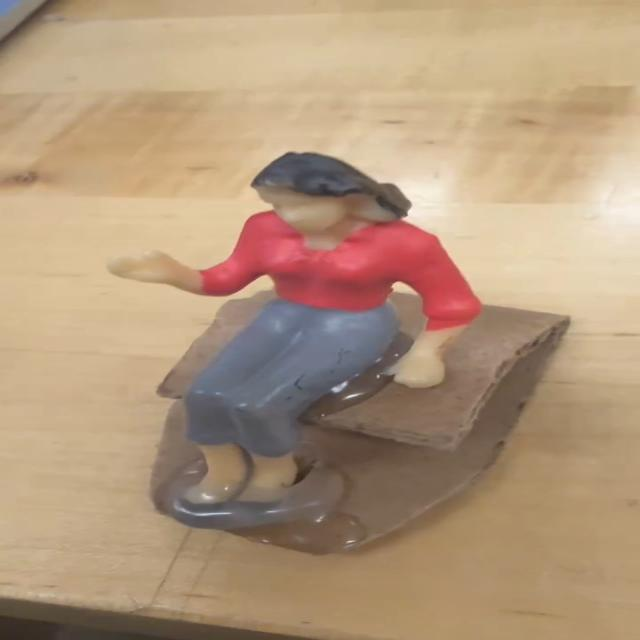Authorized: (62, 144, 562, 556)
